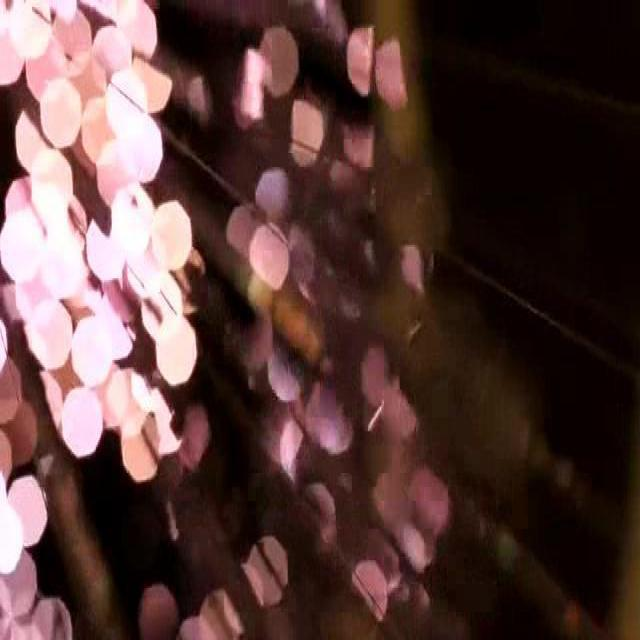other: (1, 6, 219, 565)
